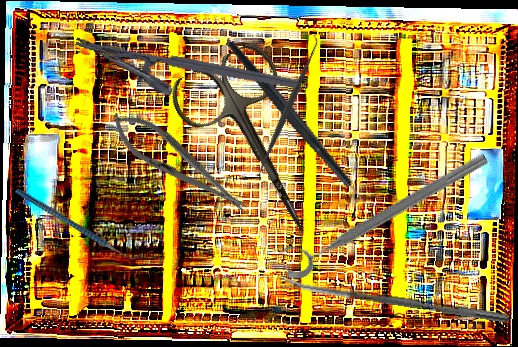Chopper: (226, 11, 384, 238), (14, 154, 144, 294)
Fixation Ring: (273, 136, 493, 284)
Iris Scissors: (163, 36, 351, 260)
Needle Holder: (100, 100, 257, 227), (69, 35, 298, 121)
Spatula Surgical: (248, 33, 328, 182)
Surgical Spoon: (279, 276, 511, 324)
